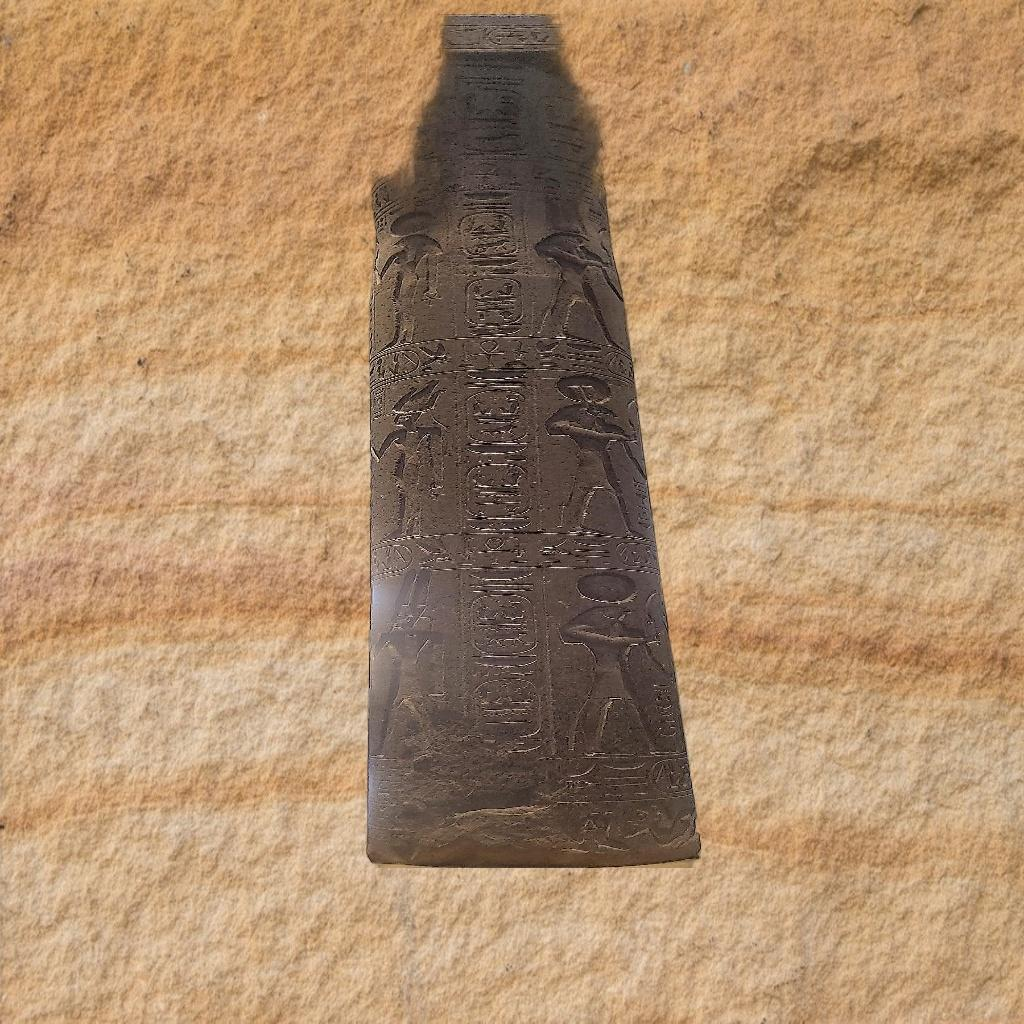Column of Merenptah: (334, 14, 704, 868)
